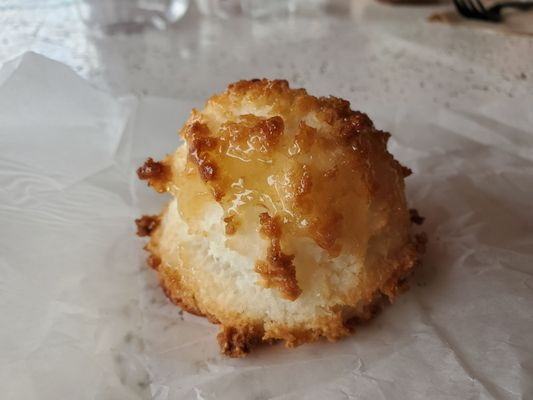salad: (136, 77, 422, 354)
sushi: (137, 78, 422, 349)
